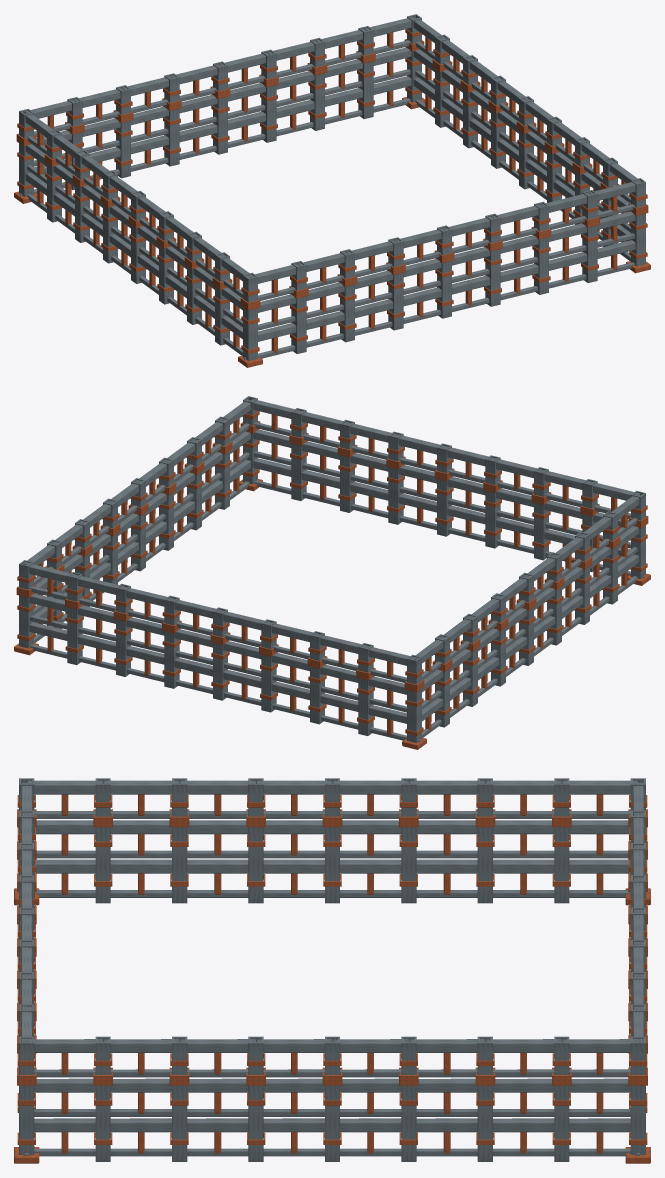
3 views of the same model, one above another, from view 1: azimuth 30°, elevation 25°; view 2: azimuth 150°, elevation 25°; view 3: azimuth 270°, elevation 25° (orthographic). The views are drawn at different scales.
Visible parts, largest first — view 1: Tier 0 side 0 post 3, Tier 0 side 2 post 3, Tier 0 side 0 post 0, Tier 0 side 2 post 1, Tier 0 side 2 post 5, Tier 0 side 0 post 5, Tier 0 side 0 post 1, Tier 0 side 0 post 7, Tier 0 side 2 post 6, Tier 0 side 2 post 2, Tier 0 side 2 post 4, Tier 0 side 0 post 2 (+14 smaller); view 2: Tier 0 side 2 post 7, Tier 0 side 2 post 1, Tier 0 side 0 post 5, Tier 0 side 2 post 3, Tier 0 side 0 post 3, Tier 0 side 2 post 5, Tier 0 side 3 post 0, Tier 0 side 0 post 7, Tier 0 side 0 post 2, Tier 0 side 0 post 4, Tier 0 side 2 post 6, Tier 0 side 2 post 2 (+14 smaller); view 3: Tier 0 side 1 post 3, Tier 0 side 1 post 5, Tier 0 side 3 post 3, Tier 0 side 3 post 5, Tier 0 side 1 post 1, Tier 0 side 1 post 2, Tier 0 side 1 post 6, Tier 0 side 1 post 7, Tier 0 side 3 post 1, Tier 0 side 3 post 2, Tier 0 side 3 post 6, Tier 0 side 3 post 7 (+52 smaller).
Boxes of the visible parts, bbox=[...] form: Tier 0 side 0 post 3: bbox=[388, 272, 403, 330]; Tier 0 side 2 post 3: bbox=[261, 85, 276, 142]; Tier 0 side 0 post 0: bbox=[243, 307, 257, 360]; Tier 0 side 2 post 1: bbox=[358, 61, 373, 118]; Tier 0 side 2 post 5: bbox=[164, 108, 179, 166]; Tier 0 side 0 post 5: bbox=[485, 249, 500, 306]; Tier 0 side 0 post 1: bbox=[291, 296, 306, 353]; Tier 0 side 0 post 7: bbox=[582, 225, 597, 282]; Tier 0 side 2 post 6: bbox=[116, 120, 130, 178]; Tier 0 side 2 post 2: bbox=[310, 73, 324, 130]; Tier 0 side 2 post 4: bbox=[213, 97, 227, 154]; Tier 0 side 0 post 2: bbox=[340, 284, 354, 342]; Tier 0 side 2 post 7: bbox=[358, 678, 373, 735]; Tier 0 side 2 post 1: bbox=[67, 607, 82, 664]; Tier 0 side 0 post 5: bbox=[388, 467, 403, 524]; Tier 0 side 2 post 3: bbox=[164, 631, 179, 688]; Tier 0 side 0 post 3: bbox=[485, 490, 500, 548]; Tier 0 side 2 post 5: bbox=[261, 654, 276, 712]; Tier 0 side 3 post 0: bbox=[407, 689, 421, 742]; Tier 0 side 0 post 7: bbox=[291, 443, 306, 500]; Tier 0 side 0 post 2: bbox=[534, 502, 548, 560]; Tier 0 side 0 post 4: bbox=[437, 479, 451, 536]; Tier 0 side 2 post 6: bbox=[310, 666, 324, 724]; Tier 0 side 2 post 2: bbox=[116, 619, 130, 676]; Tier 0 side 1 post 3: bbox=[248, 1085, 263, 1161]; Tier 0 side 1 post 5: bbox=[401, 1085, 416, 1161]; Tier 0 side 3 post 3: bbox=[401, 827, 416, 903]; Tier 0 side 3 post 5: bbox=[248, 827, 263, 903]; Tier 0 side 1 post 1: bbox=[95, 1085, 110, 1161]; Tier 0 side 1 post 2: bbox=[172, 1085, 187, 1161]; Tier 0 side 1 post 6: bbox=[477, 1085, 492, 1161]; Tier 0 side 1 post 7: bbox=[554, 1085, 569, 1161]; Tier 0 side 3 post 1: bbox=[554, 827, 569, 903]; Tier 0 side 3 post 2: bbox=[477, 827, 492, 903]; Tier 0 side 3 post 6: bbox=[172, 827, 187, 903]; Tier 0 side 3 post 7: bbox=[95, 827, 110, 903].
Bounding box in the file's own units: 3.75 × 0.7714 × 3.75.
2 materials, 2 textured.
